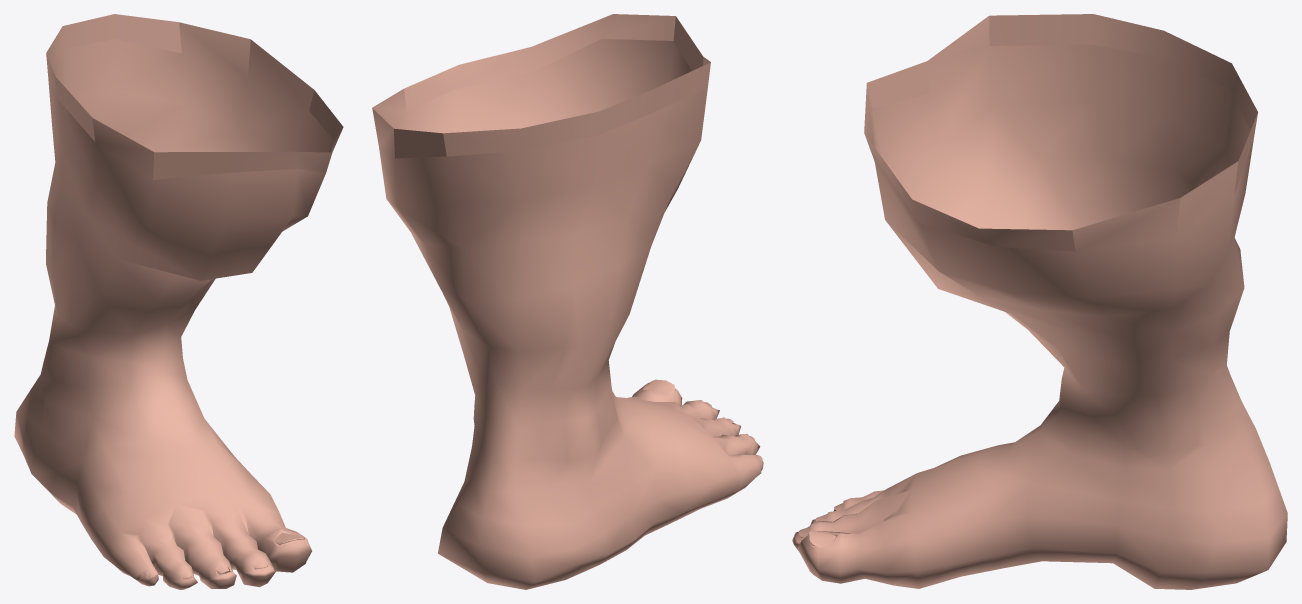
The model's file is R-foot.fbx.
The picture shows the model from 3 angles, left to right: view 1: azimuth 30°, elevation 25°; view 2: azimuth 150°, elevation 25°; view 3: azimuth 270°, elevation 25°; orthographic projection. The views are drawn at different scales.
Parts seen in each view (by area): view 1: pasted__polySurface1; view 2: pasted__polySurface1; view 3: pasted__polySurface1.
Boxes of the visible parts, x1,y1,x2,y2 form: pasted__polySurface1: (14, 14, 343, 589); pasted__polySurface1: (372, 14, 763, 589); pasted__polySurface1: (792, 14, 1287, 589).
Bounding box in the file's own units: 2.68 × 4.22 × 3.78.
